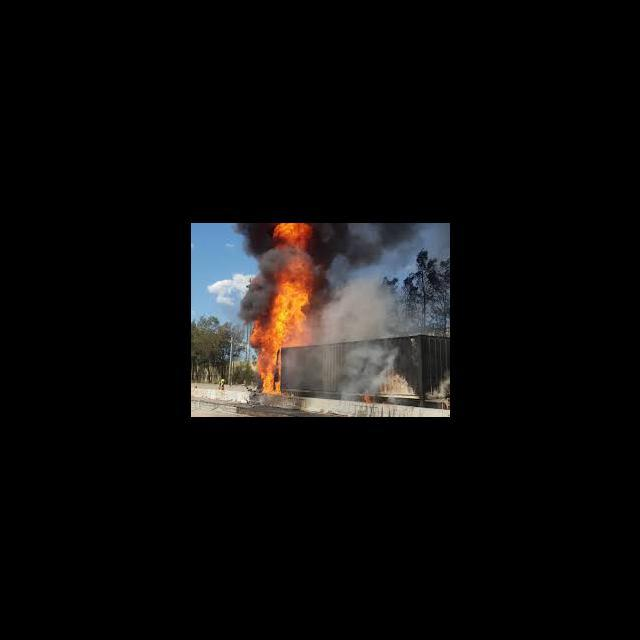Fire: (250, 226, 314, 400)
Smoke: (318, 273, 400, 393), (318, 224, 416, 268)
